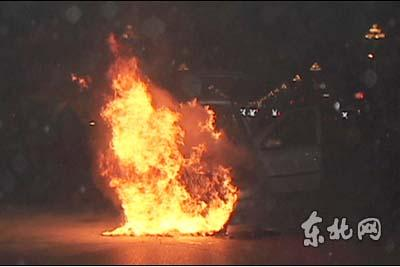fire: (79, 33, 248, 236)
